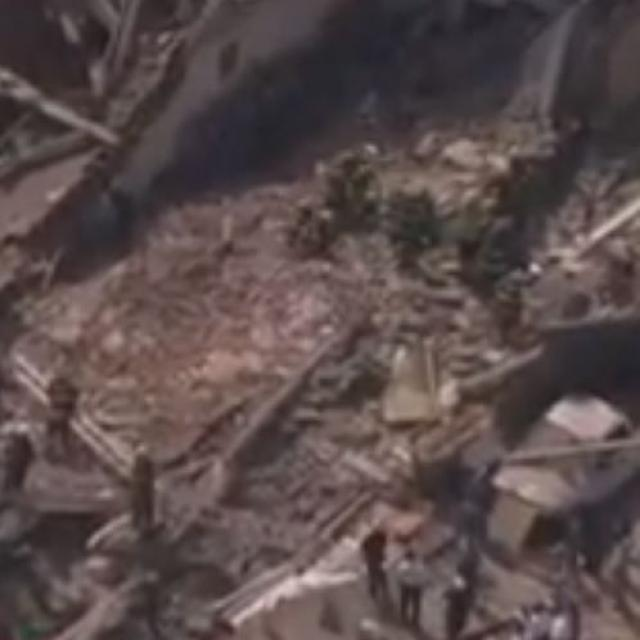collapsed_building: (104, 111, 632, 638)
